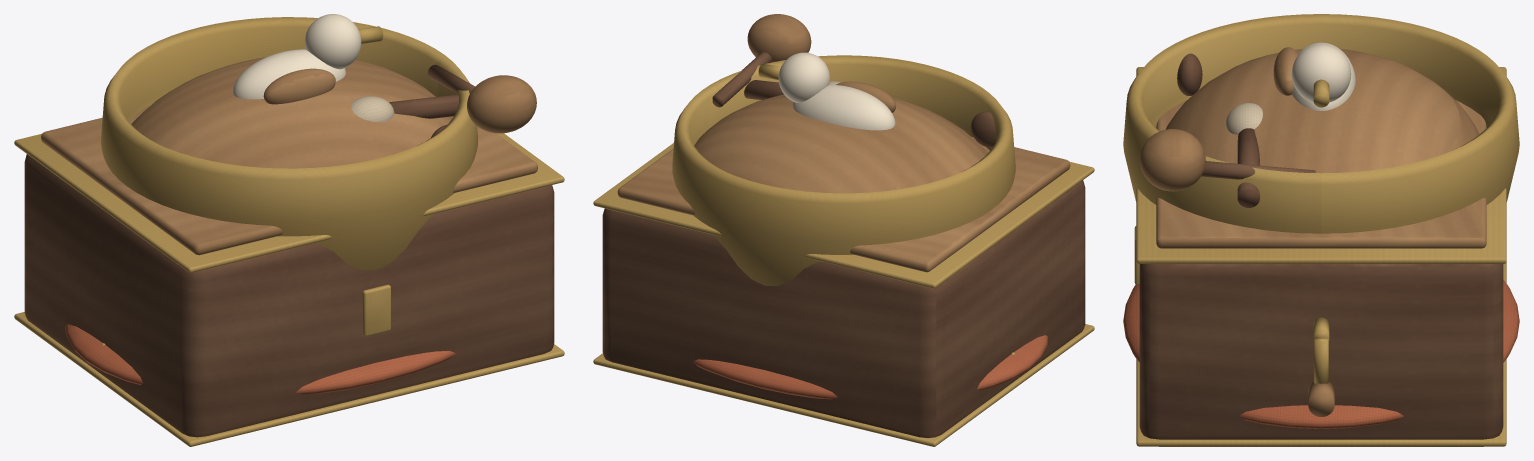
Rendered from tidy-toys.glb.
3 views of the same model, side by side, from view 1: azimuth 30°, elevation 25°; view 2: azimuth 150°, elevation 25°; view 3: azimuth 270°, elevation 25° (orthographic). The views are drawn at different scales.
Parts seen in each view (by area): view 1: musicbox_mesh, bowl_mesh, woodfish_mesh, musicbox_rotor_mesh, woodfish_hammer_mesh, bowl_striker_mesh; view 2: musicbox_mesh, bowl_mesh, woodfish_mesh, musicbox_rotor_mesh, woodfish_hammer_mesh, bowl_striker_mesh; view 3: musicbox_mesh, bowl_mesh, woodfish_mesh, musicbox_rotor_mesh, woodfish_hammer_mesh, bowl_striker_mesh, musicbox_crank_mesh.
Part boxes in pixels (bbox=[...]): musicbox_mesh: bbox=[14, 106, 564, 446]; bowl_mesh: bbox=[101, 17, 477, 270]; woodfish_mesh: bbox=[65, 57, 455, 394]; musicbox_rotor_mesh: bbox=[233, 14, 383, 104]; woodfish_hammer_mesh: bbox=[427, 64, 536, 133]; bowl_striker_mesh: bbox=[351, 94, 458, 122]; musicbox_mesh: bbox=[593, 136, 1094, 446]; bowl_mesh: bbox=[672, 55, 1015, 285]; woodfish_mesh: bbox=[692, 94, 1048, 399]; musicbox_rotor_mesh: bbox=[758, 52, 895, 130]; woodfish_hammer_mesh: bbox=[712, 14, 811, 107]; bowl_striker_mesh: bbox=[744, 80, 840, 99]; musicbox_mesh: bbox=[1134, 67, 1506, 446]; bowl_mesh: bbox=[1123, 14, 1519, 233]; woodfish_mesh: bbox=[1123, 49, 1519, 428]; musicbox_rotor_mesh: bbox=[1273, 42, 1355, 110]; woodfish_hammer_mesh: bbox=[1139, 129, 1315, 191]; bowl_striker_mesh: bbox=[1226, 103, 1262, 207]; musicbox_crank_mesh: bbox=[1308, 317, 1334, 416].
Size of the model in its own units: 0.163 by 0.1155 by 0.12.
Materials: 7 (7 with a texture image).
